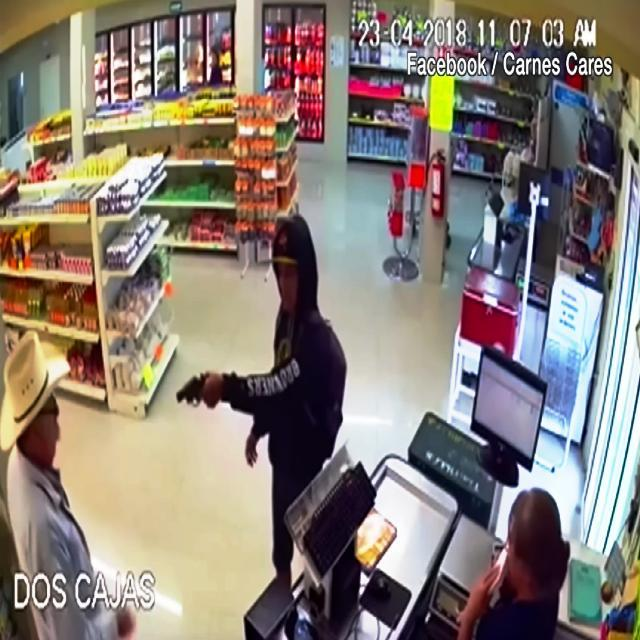Gun: (169, 365, 223, 416)
